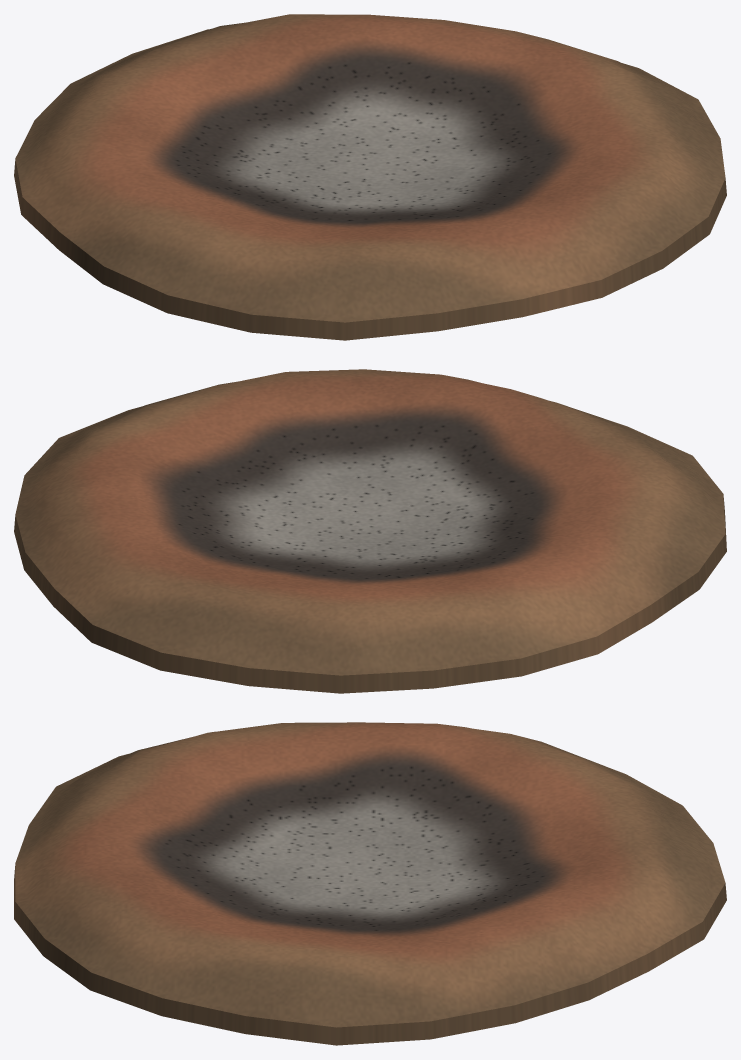
File: hearth_base.glb
3 renders of one model, top to bottom at view 1: azimuth 30°, elevation 25°; view 2: azimuth 150°, elevation 25°; view 3: azimuth 270°, elevation 25°, orthographic.
Visible parts, largest first — view 1: HEARTH_BASE; view 2: HEARTH_BASE; view 3: HEARTH_BASE.
Part boxes in pixels (x1,y1,x2,y2): HEARTH_BASE: [14, 14, 726, 340]; HEARTH_BASE: [14, 369, 726, 693]; HEARTH_BASE: [14, 722, 726, 1045].
Size of the model in its own units: 1.19 by 0.0955 by 1.19.
Materials: 1 (1 with a texture image).
